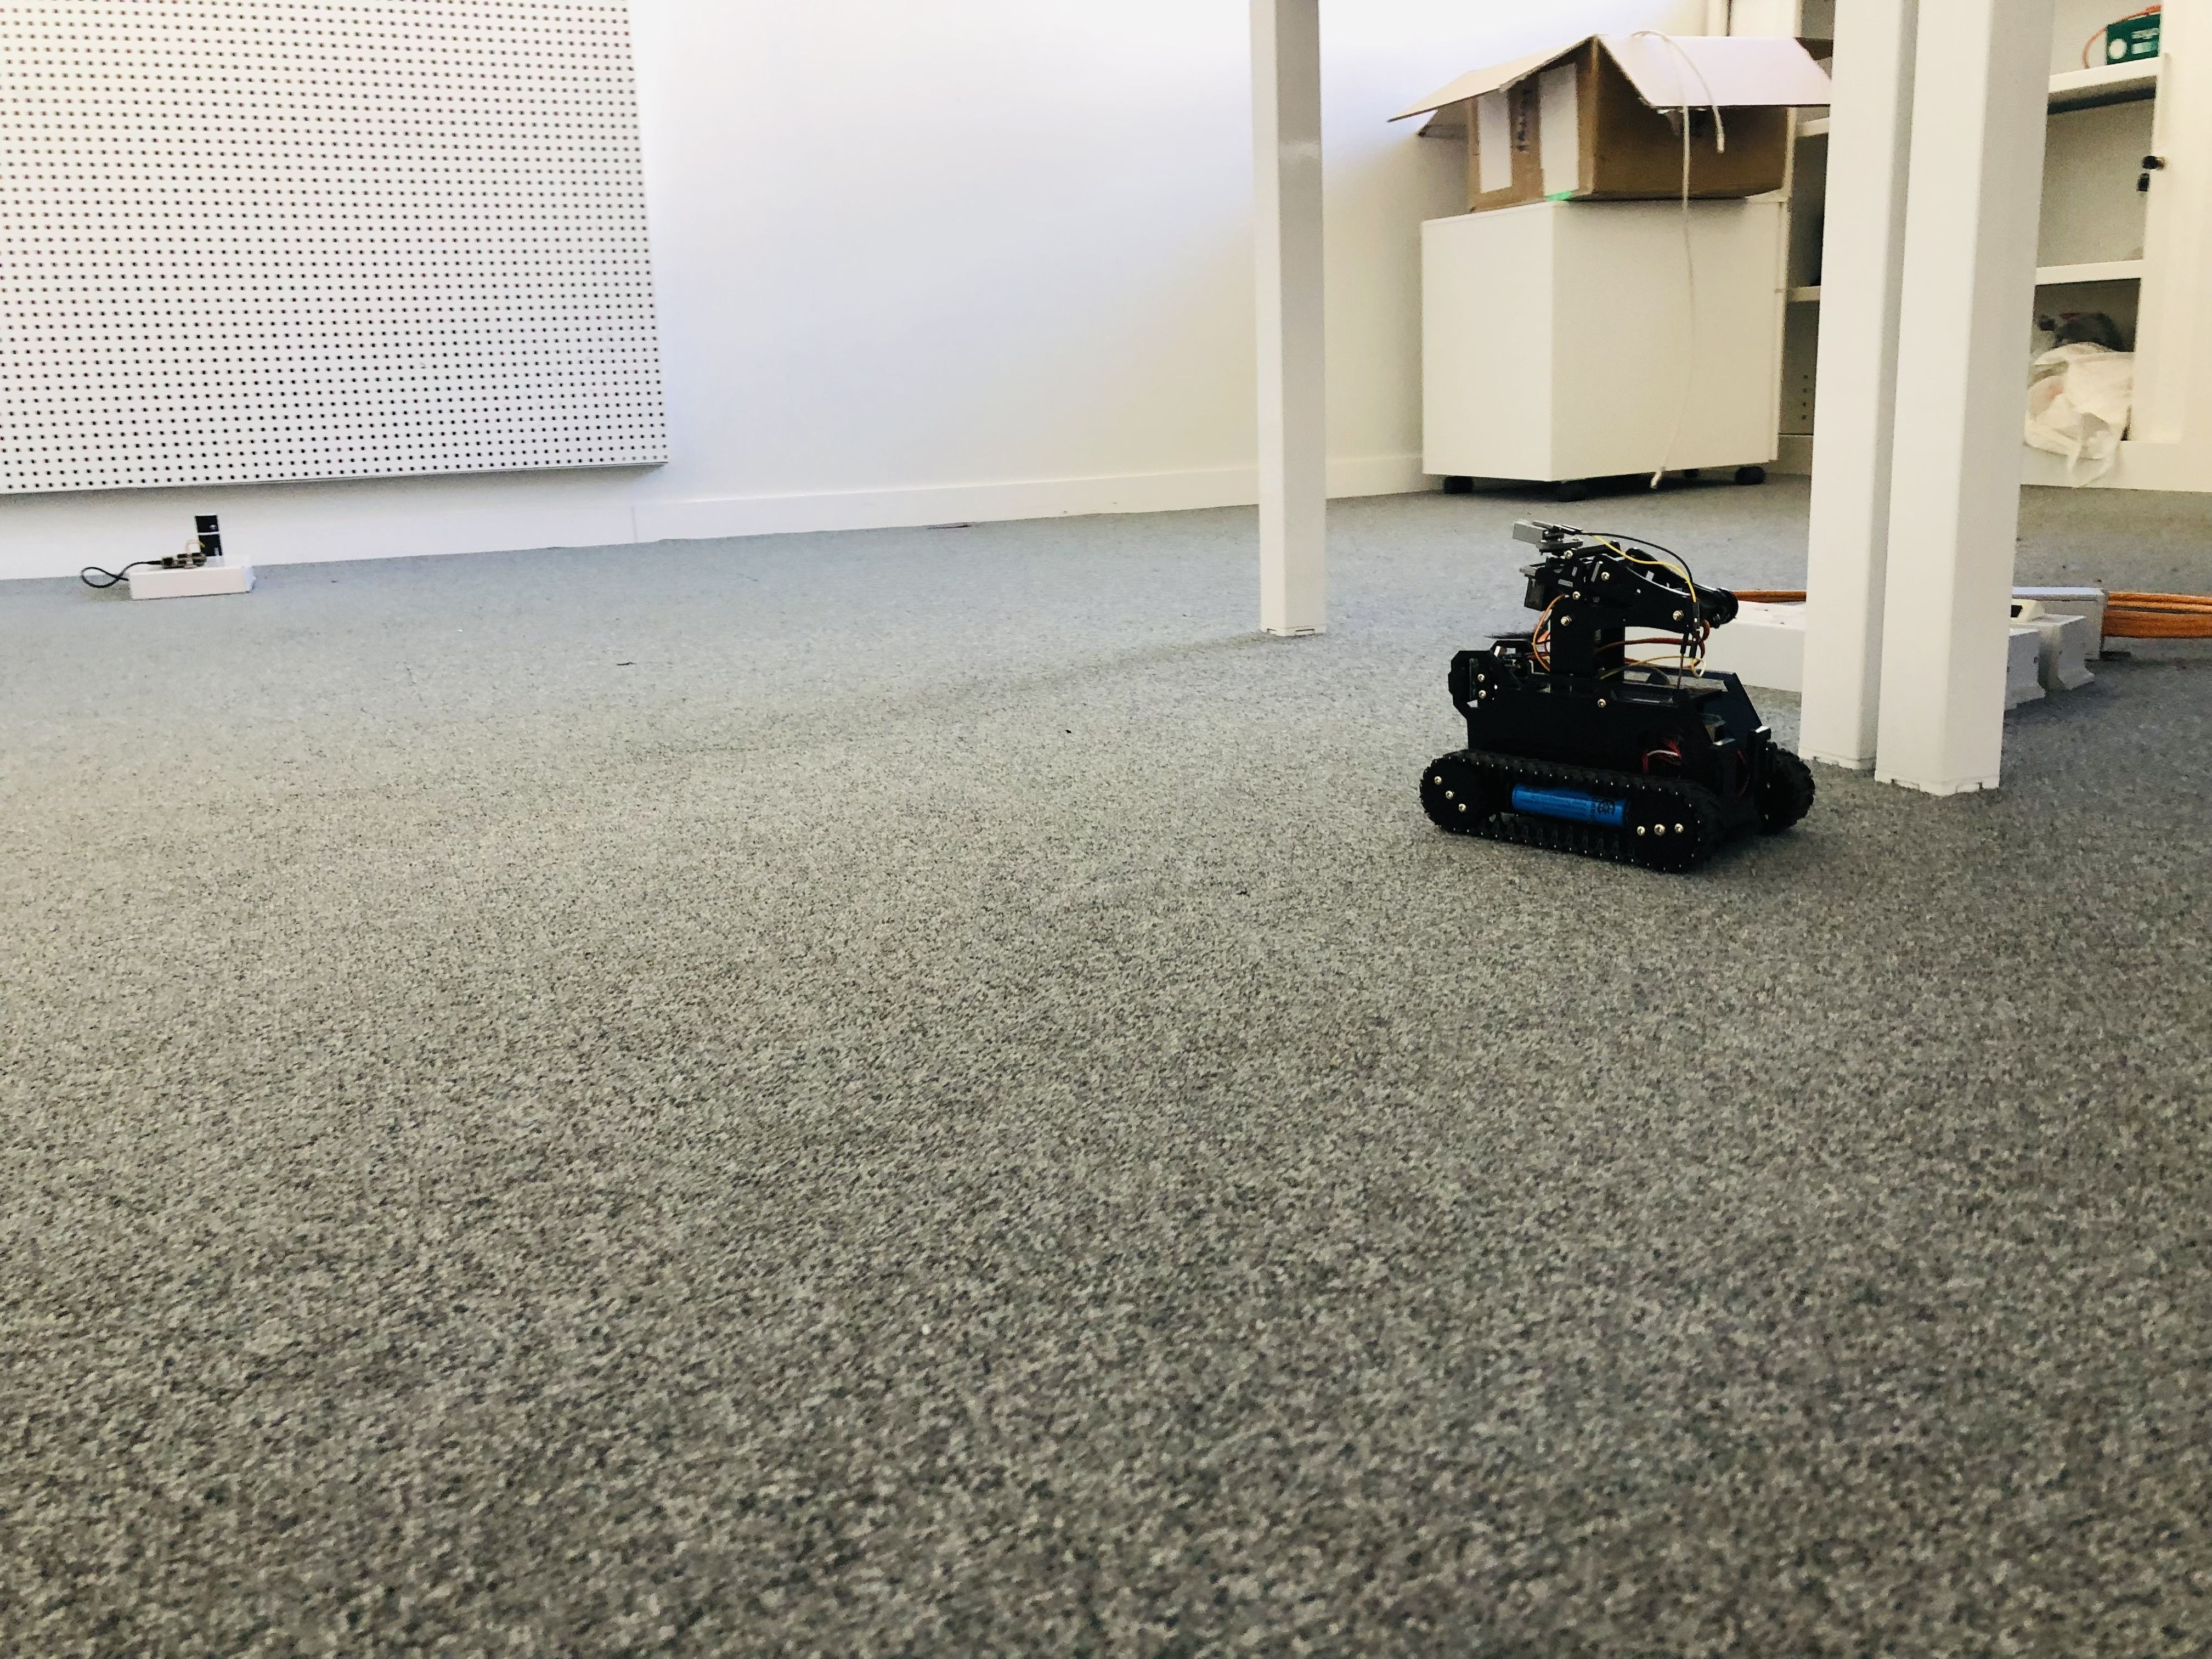rasptank: (1411, 518, 1824, 870)
